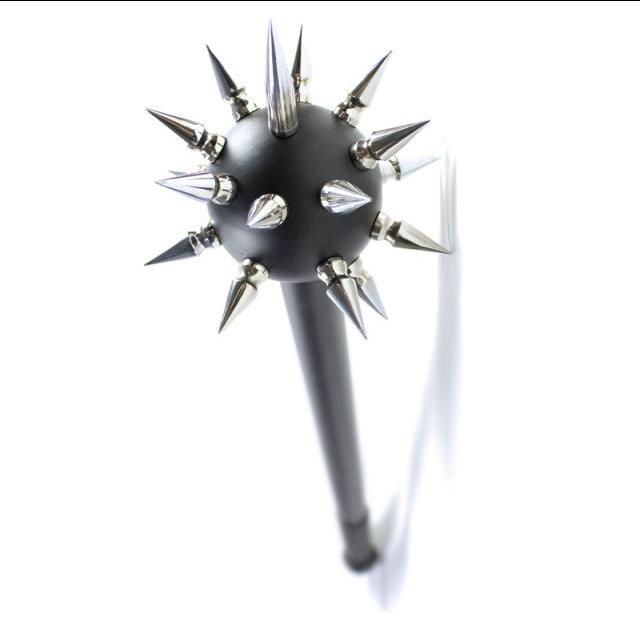mace: (157, 61, 455, 573)
